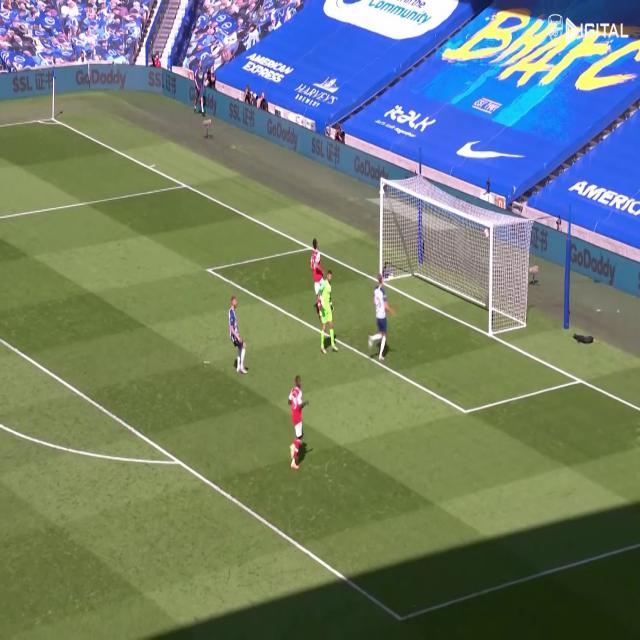GoalKeeper: (318, 267, 344, 357)
TEAM 1: (218, 288, 252, 389), (367, 261, 392, 368)
TEAM 2: (284, 368, 310, 478), (306, 232, 324, 298)
